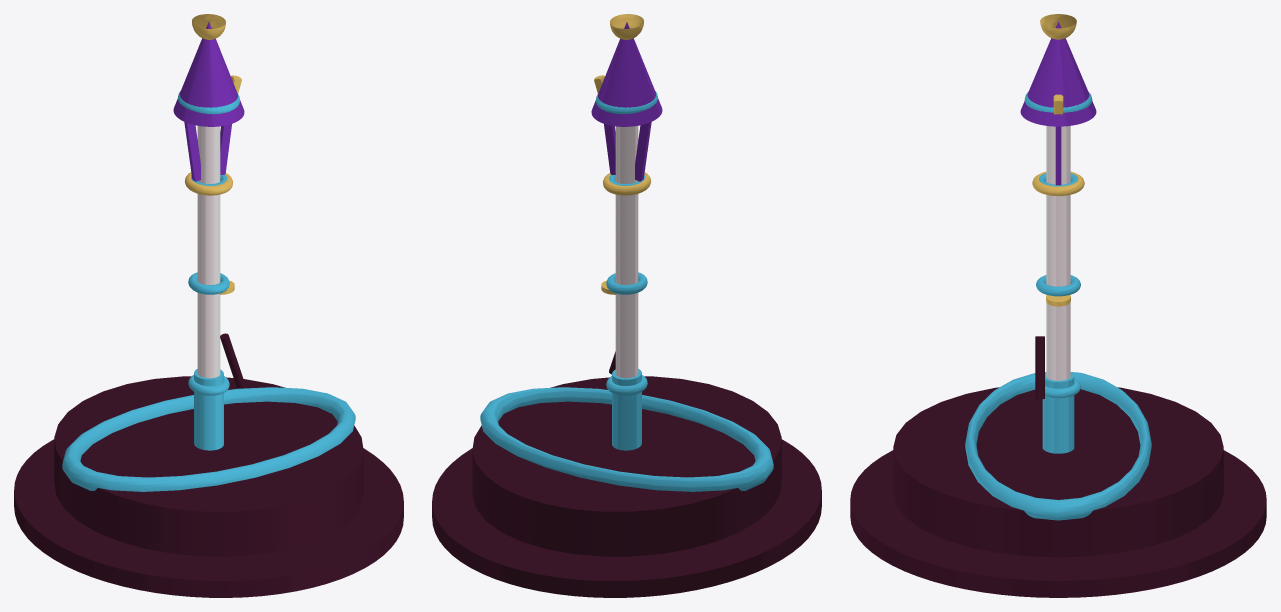
File: 0569_伟大的发明图鉴_天花病毒.glb
3 renders of one model, left to right at view 1: azimuth 30°, elevation 25°; view 2: azimuth 150°, elevation 25°; view 3: azimuth 270°, elevation 25°, orthographic.
Visible parts, largest first — view 1: card_0569; view 2: card_0569; view 3: card_0569.
Boxes of the visible parts, bbox=[...] form: card_0569: bbox=[14, 14, 403, 597]; card_0569: bbox=[432, 14, 821, 597]; card_0569: bbox=[850, 14, 1266, 597].
Bounding box in the file's own units: 0.705 × 1 × 0.7618.
